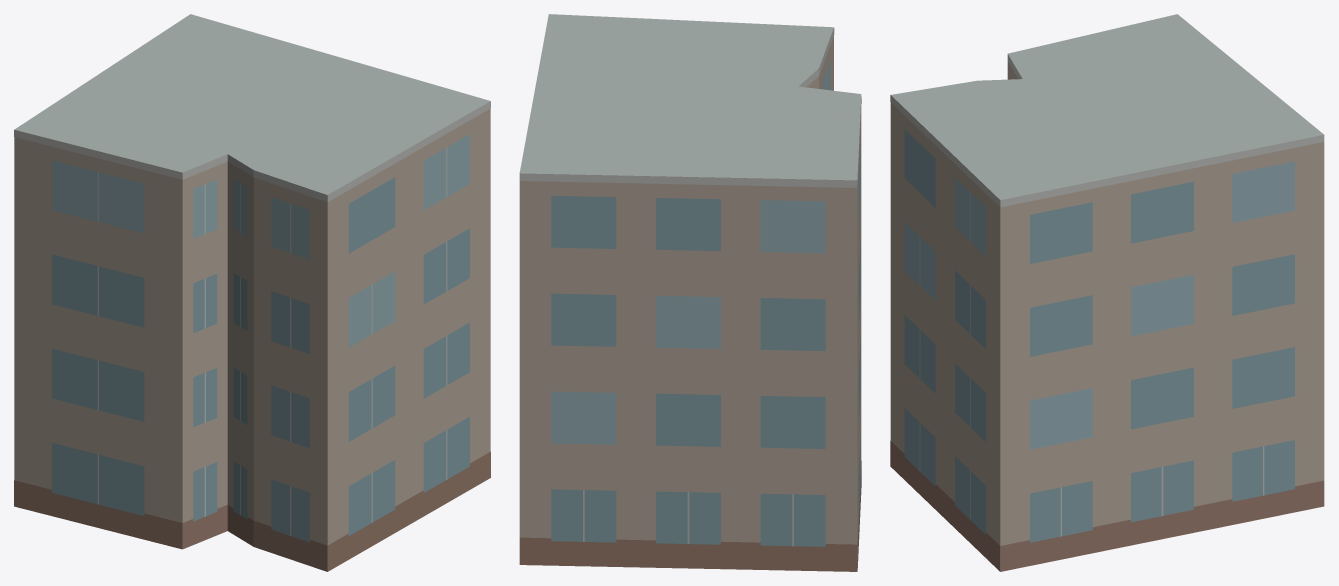
File: survey-upis-32526266.glb
The picture shows the model from 3 angles, left to right: view 1: azimuth 30°, elevation 25°; view 2: azimuth 150°, elevation 25°; view 3: azimuth 270°, elevation 25°; orthographic projection. The views are drawn at different scales.
Visible parts, largest first — view 1: survey-upis-32526266.tmp; view 2: survey-upis-32526266.tmp; view 3: survey-upis-32526266.tmp.
Boxes of the visible parts, x1,y1,x2,y2 form: survey-upis-32526266.tmp: (14, 14, 490, 571); survey-upis-32526266.tmp: (519, 14, 861, 571); survey-upis-32526266.tmp: (890, 14, 1324, 571).
Size of the model in its own units: 13.66 by 12.7 by 13.44.
